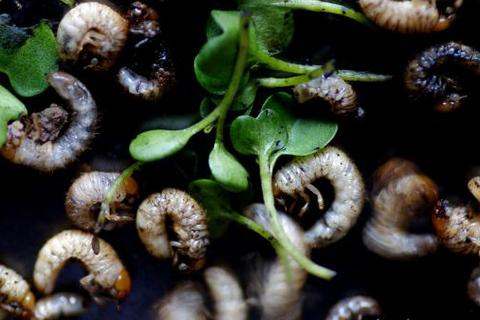grub: (265, 145, 366, 251)
